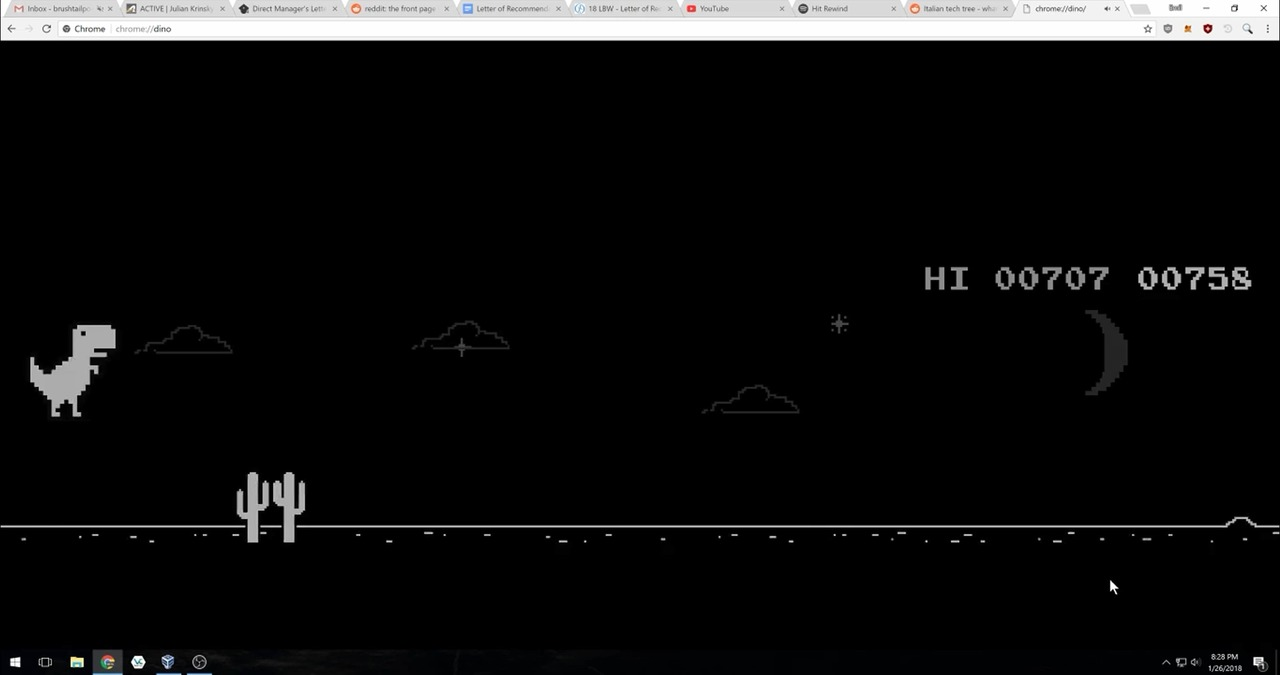cactus: (235, 468, 308, 549)
dinosaur: (26, 322, 119, 423)
